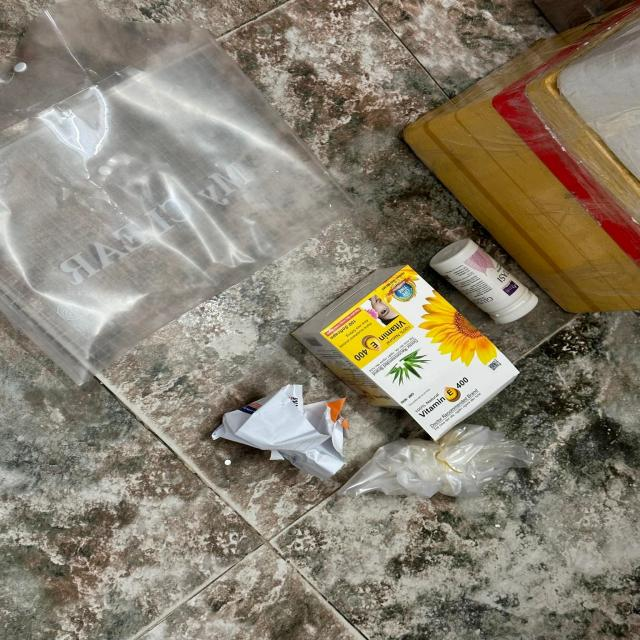bag: (0, 1, 354, 386), (335, 423, 539, 497)
bottle: (430, 237, 538, 325)
cardboard box: (290, 263, 522, 442)
paper: (209, 383, 352, 483)
